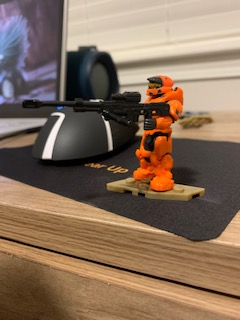spartan: (134, 74, 186, 195)
